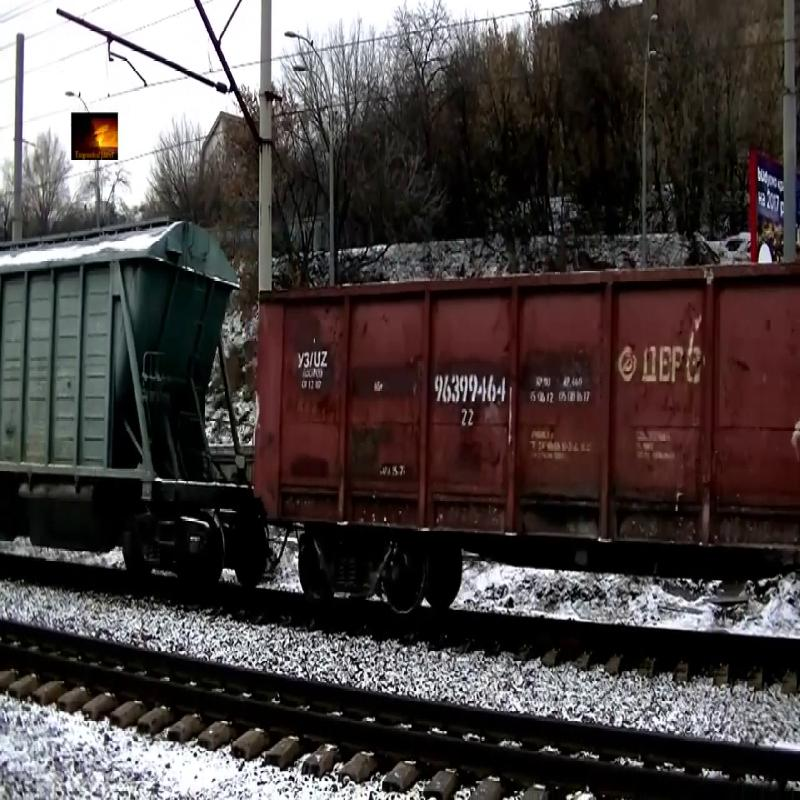train: (254, 261, 800, 573), (1, 215, 245, 537)
